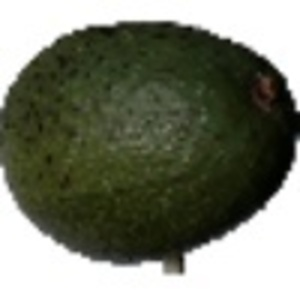abacate: (1, 17, 297, 261)
